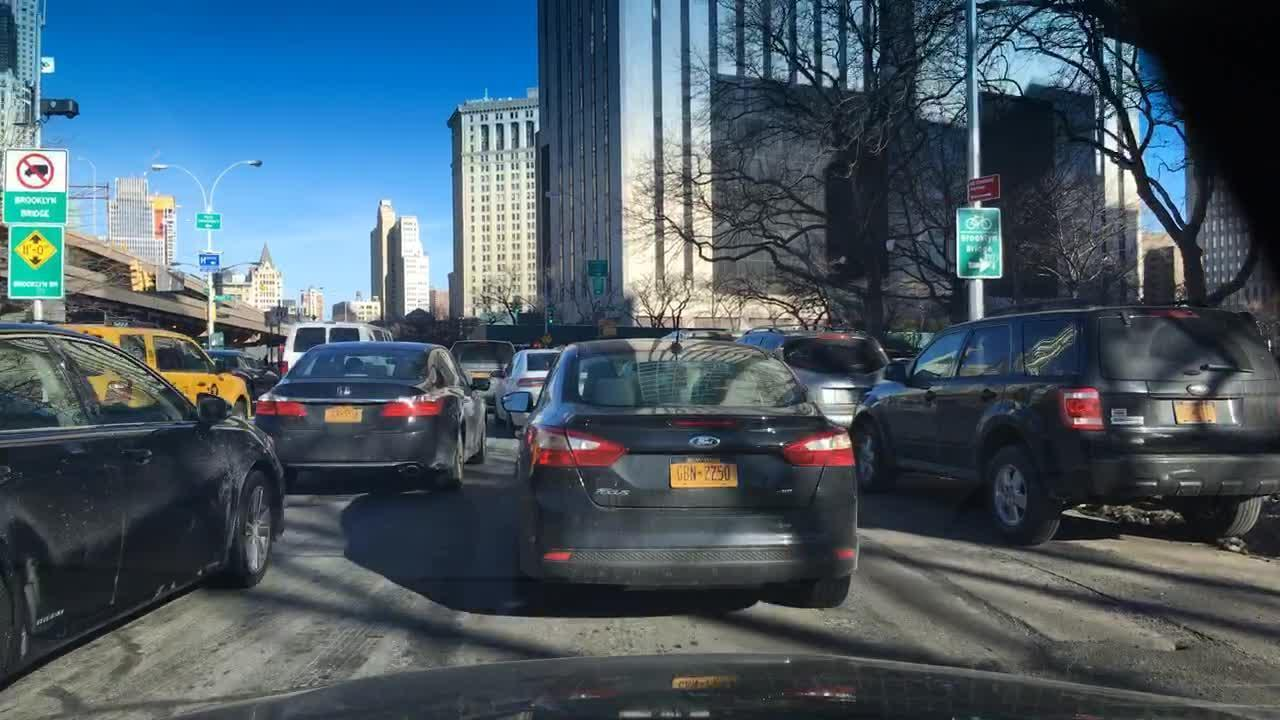Honda: (328, 379, 357, 398)
ford: (681, 431, 732, 450)
